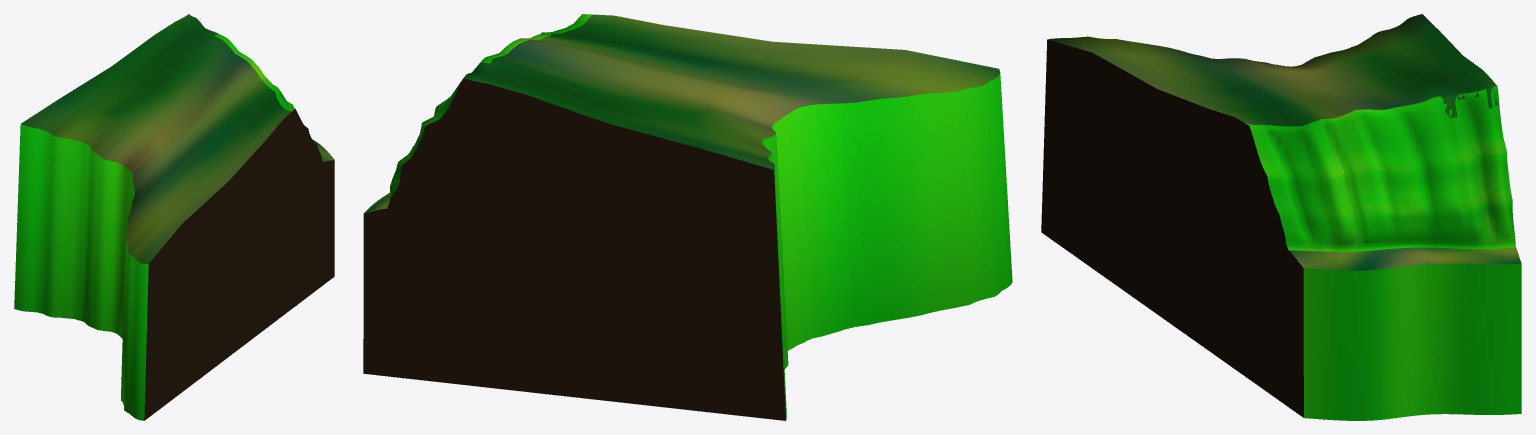
File: SM_ForestRisingCliffs_06.fbx
The picture shows the model from 3 angles, left to right: view 1: azimuth 30°, elevation 25°; view 2: azimuth 150°, elevation 25°; view 3: azimuth 270°, elevation 25°; orthographic projection. The views are drawn at different scales.
Parts seen in each view (by area): view 1: SM_ForestRisingCliffs_06; view 2: SM_ForestRisingCliffs_06; view 3: SM_ForestRisingCliffs_06.
Part boxes in pixels (x1,y1,x2,y2): SM_ForestRisingCliffs_06: (14, 14, 334, 420); SM_ForestRisingCliffs_06: (363, 14, 1012, 420); SM_ForestRisingCliffs_06: (1041, 14, 1521, 420).
Size of the model in its own units: 66.34 by 71.32 by 47.15.
